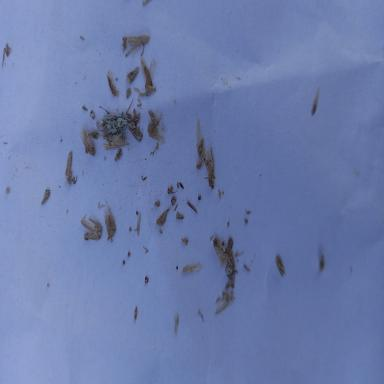pbw: (123, 31, 150, 57), (80, 214, 102, 242), (102, 203, 117, 243), (202, 146, 216, 188), (147, 112, 165, 143), (79, 126, 96, 158), (138, 54, 153, 88), (212, 234, 227, 264), (194, 118, 204, 158), (106, 69, 119, 96), (64, 150, 74, 184), (155, 206, 171, 225), (128, 122, 143, 142), (195, 148, 206, 171), (126, 65, 139, 84), (274, 255, 285, 276), (148, 109, 158, 126), (41, 187, 50, 204)
